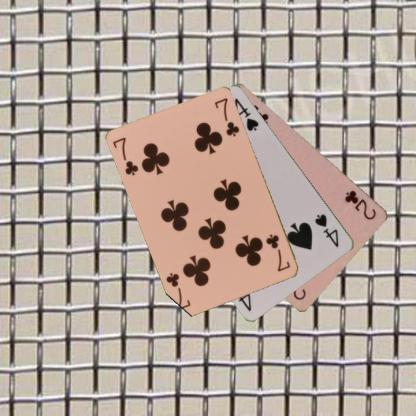2c: (342, 187, 378, 221)
4s: (312, 211, 341, 249)
7c: (110, 134, 140, 178), (263, 231, 292, 273)
